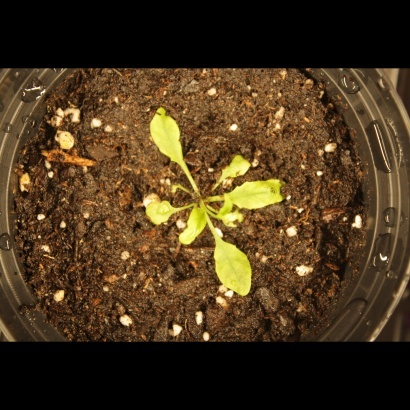leaf: (143, 106, 195, 174), (212, 229, 258, 301), (219, 179, 294, 217), (211, 153, 255, 188), (138, 194, 179, 230), (177, 196, 204, 249), (218, 204, 246, 233)
